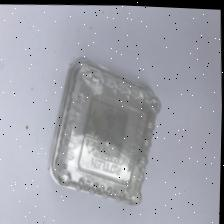plastic: (48, 55, 162, 203)
